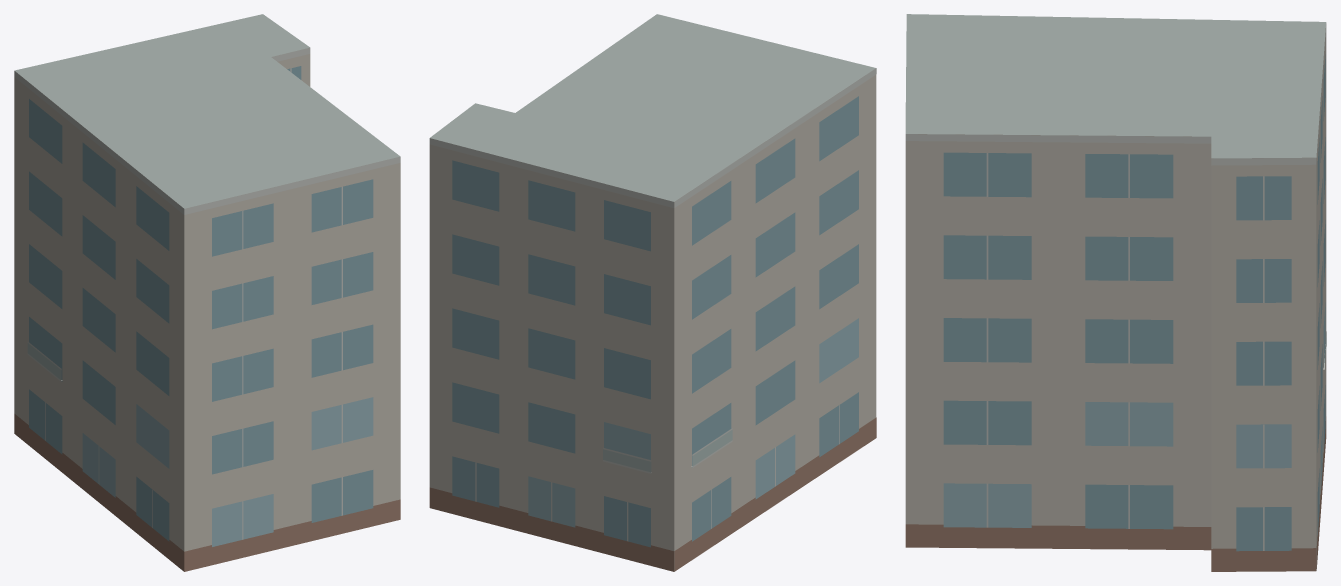
The model's file is survey-upis-32979977.glb.
3 views of the same model, side by side, from view 1: azimuth 30°, elevation 25°; view 2: azimuth 150°, elevation 25°; view 3: azimuth 270°, elevation 25° (orthographic). The views are drawn at different scales.
Parts seen in each view (by area): view 1: survey-upis-32979977.tmp; view 2: survey-upis-32979977.tmp; view 3: survey-upis-32979977.tmp.
Boxes of the visible parts, <box> form: survey-upis-32979977.tmp: <box>14,14,400,571</box>; survey-upis-32979977.tmp: <box>429,14,876,571</box>; survey-upis-32979977.tmp: <box>905,14,1326,571</box>.
Size of the model in its own units: 10.64 by 14.2 by 13.11.
